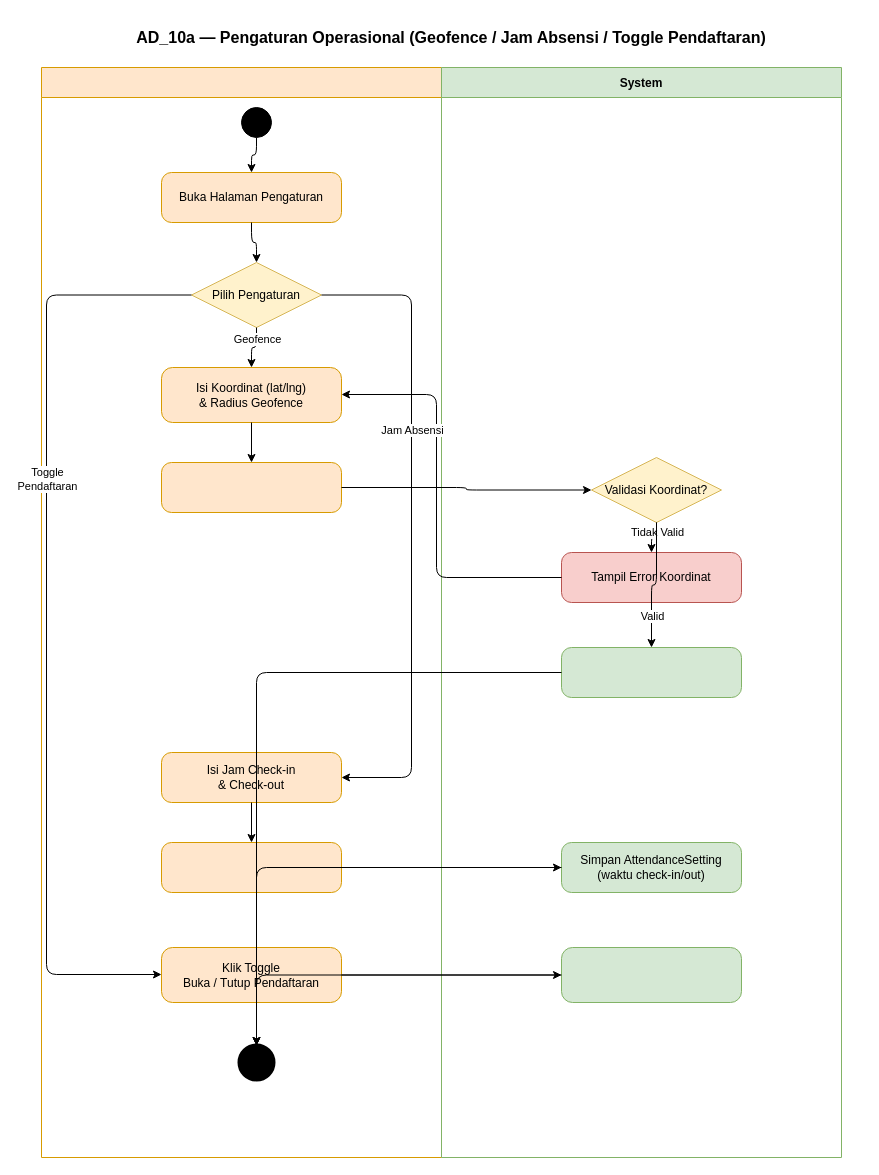
The diagram is 879 pixels wide and 1175 high, and some of its shapes have lost their labels. Each missing label, with the box of its shape:
Admin: (40, 66, 442, 1158)
Klik Simpan Geofence: (160, 462, 342, 512)
Klik Simpan Jam: (160, 842, 342, 892)
Simpan AttendanceSetting (geofence): (560, 646, 742, 698)
Update RegistrationSetting (buka / tutup): (560, 946, 742, 1002)
